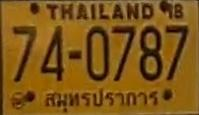0: (86, 25, 108, 80)
4: (40, 24, 63, 80)
7: (12, 25, 36, 81), (164, 24, 188, 80), (112, 25, 134, 80)
8: (138, 25, 162, 80)
SPK: (41, 86, 160, 110)
